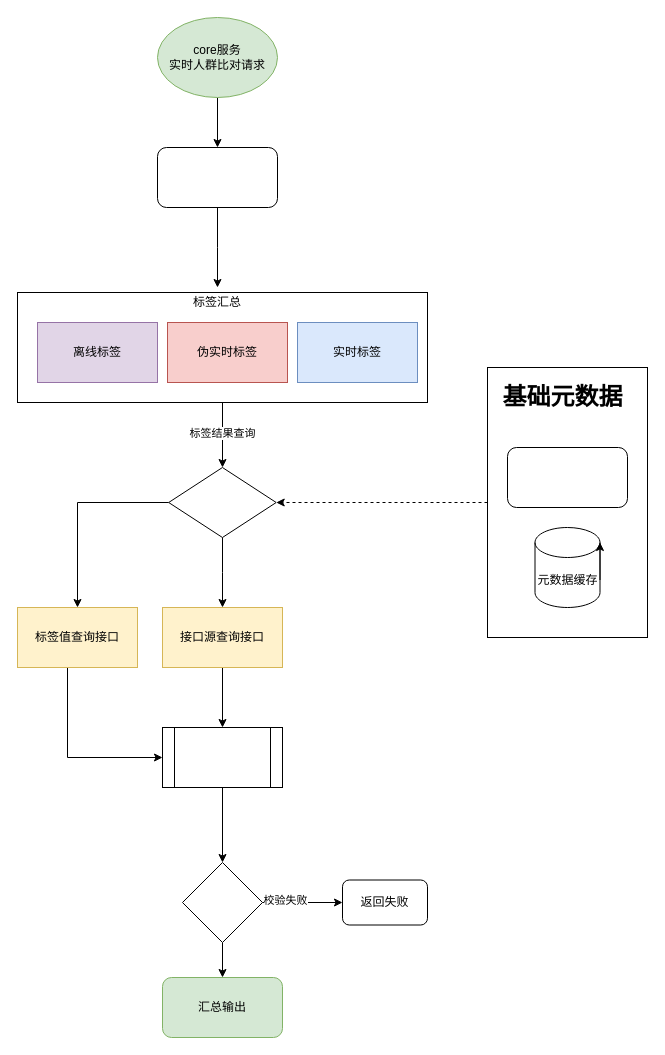
Some shapes in this 665 by 1055 pixel diagram are drawn without their labels. Here are the shapes that lost their labels. From the top down, the centre of each, then its label:
point (217, 177): 汇总数据， 提取标签， 进行标签召回
point (567, 477): 标签元数据提取： 名称，值类型等
point (222, 502): 标签基础 信息校验
point (222, 757): 标签结果汇总
point (222, 902): 结果值类型 校验
